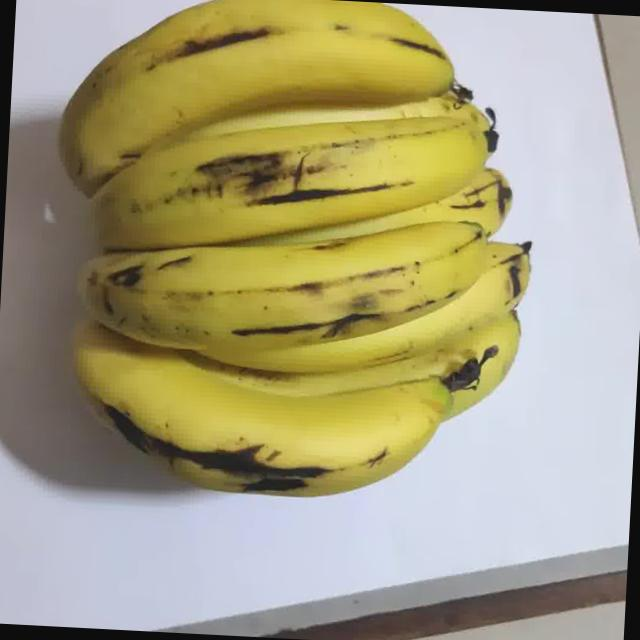banana_pacche: (0, 0, 627, 615)
